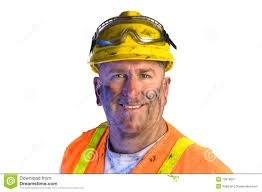helmet: (86, 7, 178, 72)
person with full safety: (57, 8, 237, 174)
safety vest: (63, 122, 228, 174)
